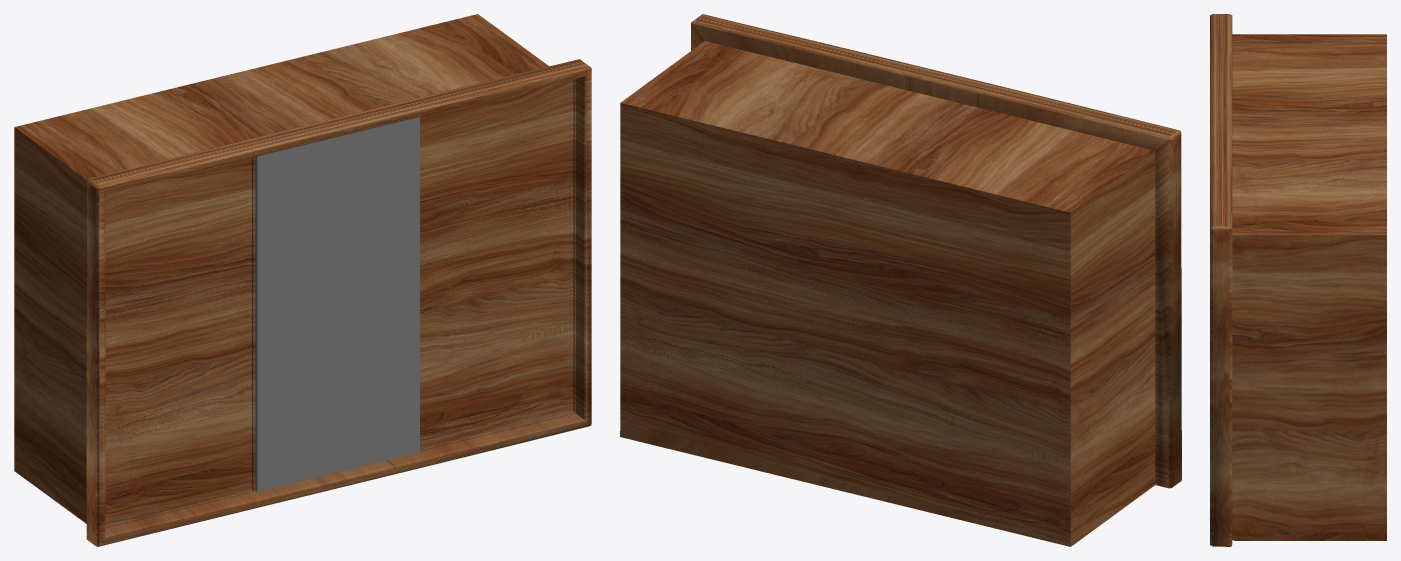
The model's file is Wardrobe.FBX.
3 renders of one model, left to right at view 1: azimuth 30°, elevation 25°; view 2: azimuth 150°, elevation 25°; view 3: azimuth 270°, elevation 25°, orthographic. The views are drawn at different scales.
Parts seen in each view (by area): view 1: Box001; view 2: Box001; view 3: Box001.
Boxes of the visible parts, x1,y1,x2,y2 form: Box001: (14, 14, 591, 546); Box001: (620, 14, 1181, 546); Box001: (1210, 14, 1386, 546).
Size of the model in its own units: 115 by 80 by 40.
